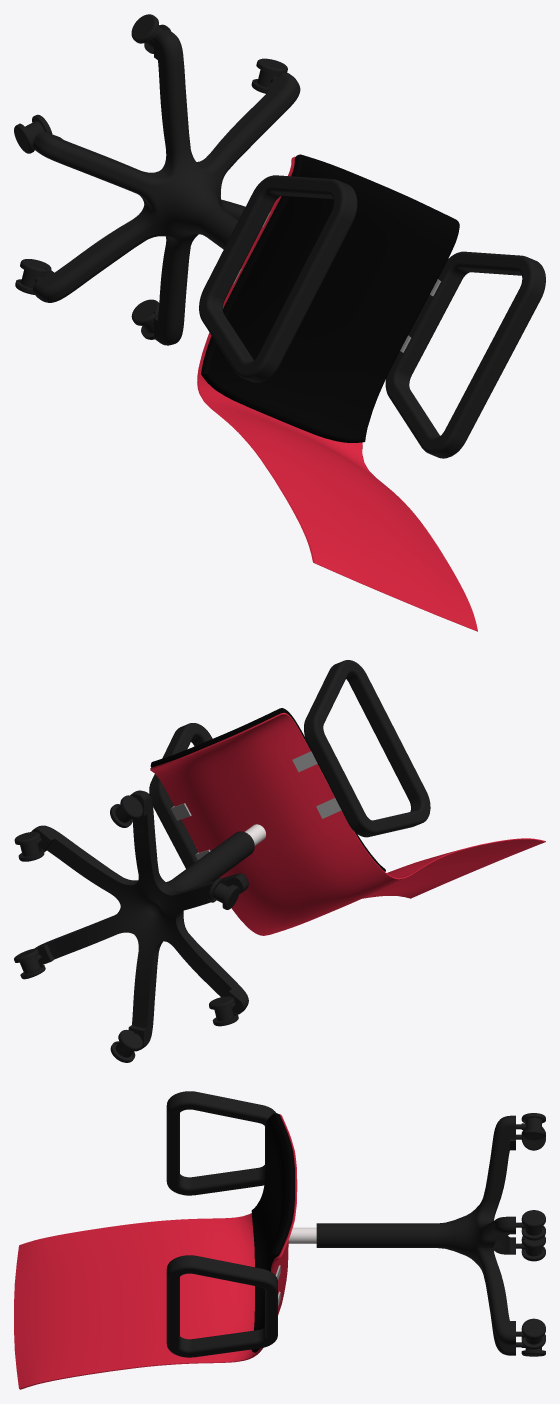
File: office chair v1.fbx
The picture shows the model from 3 angles, top to bottom: view 1: azimuth 30°, elevation 25°; view 2: azimuth 150°, elevation 25°; view 3: azimuth 270°, elevation 25°; orthographic projection. The views are drawn at different scales.
Visible parts, largest first — view 1: Body1 (×5); view 2: Body1 (×5); view 3: Body1 (×8).
Boxes of the visible parts, <box> form: Body1 (×5): <box>37,32,545,631</box>; Body1 (×5): <box>36,660,545,1045</box>; Body1 (×8): <box>14,1091,545,1389</box>.
Bounding box in the file's own units: 910 × 970 × 1626.
